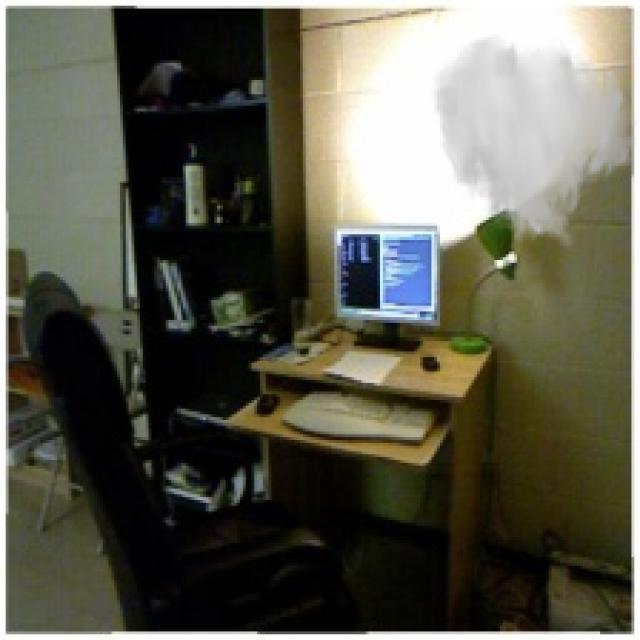Smoke: (432, 32, 637, 255)
